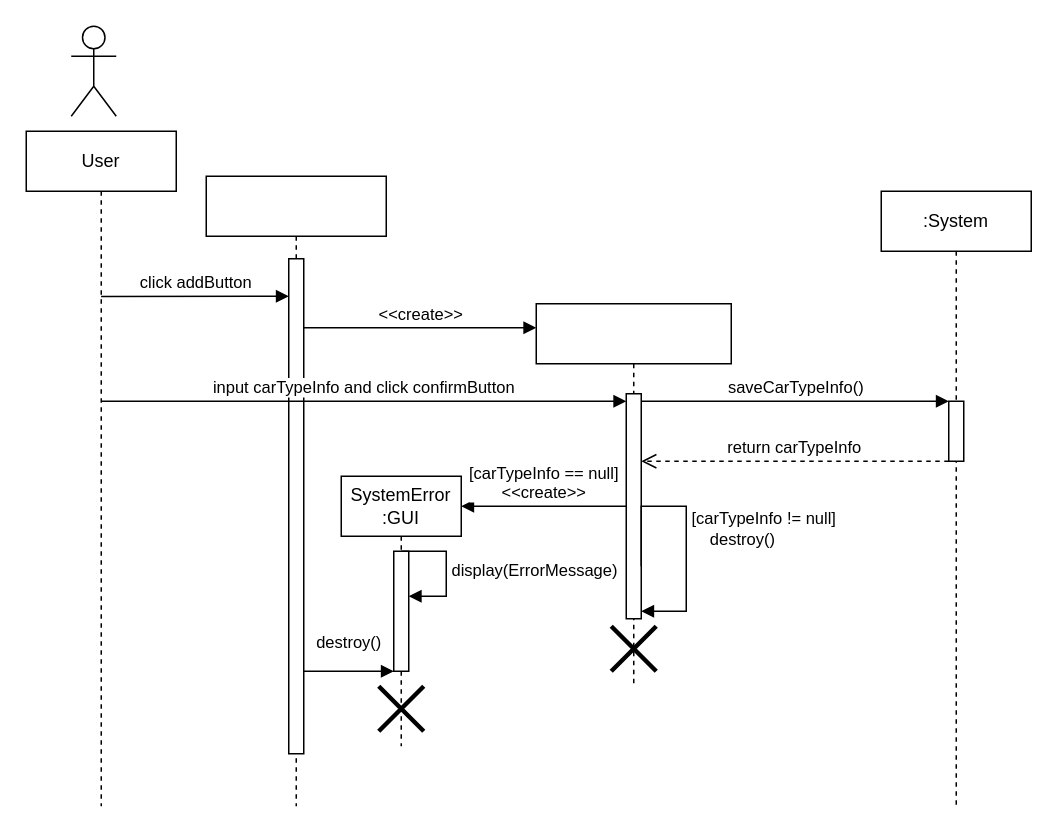
Image size: 1058x833. Some labels were removed from this diagram. Each missing label, with the box of its shape:
AddCarTypeInfoDialog :GUI: (535, 302, 731, 686)
CarTypeManagePage :GUI: (205, 175, 386, 806)
